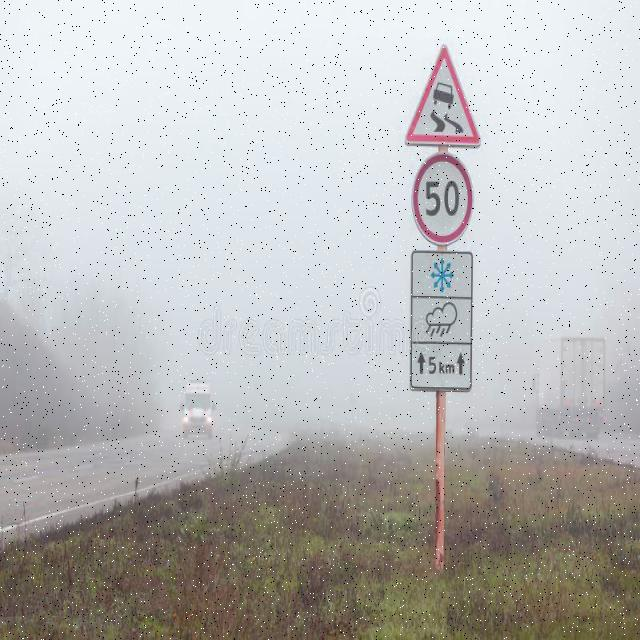speed_limit_50: (413, 154, 473, 243), (468, 248, 470, 250)
